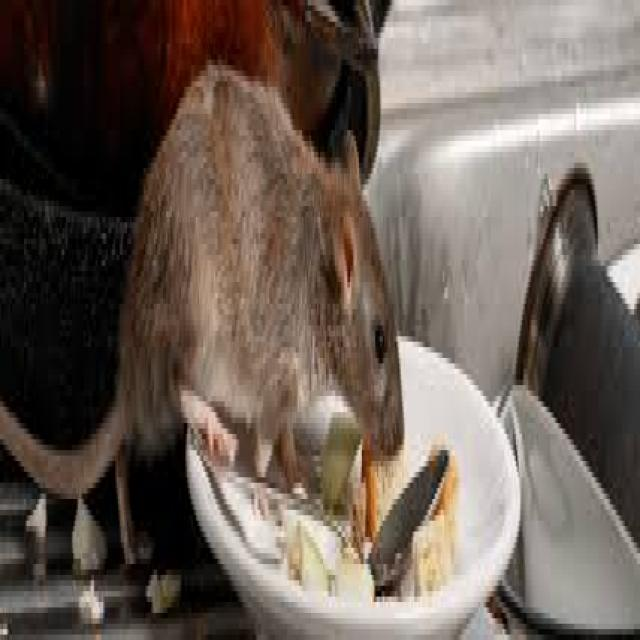rat: (0, 54, 404, 564)
